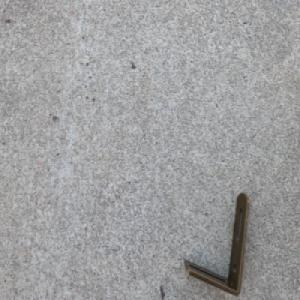MetalPart: (183, 191, 251, 297)
